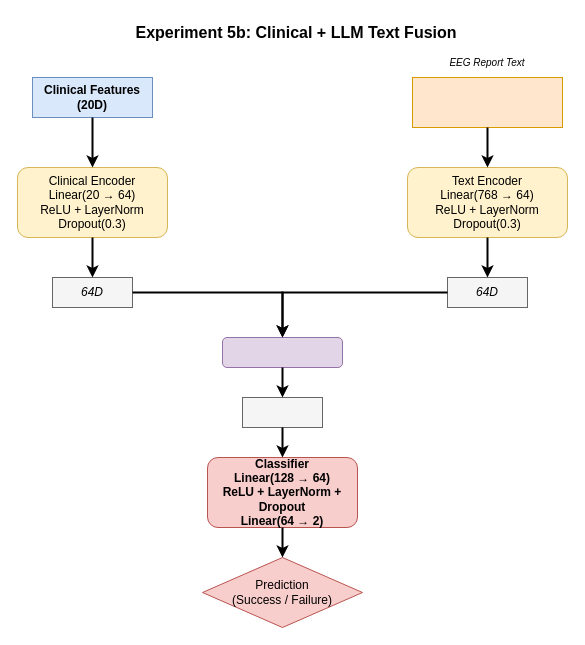
This 585x645 diagram has some shape labels left out. Here are the shapes that lost their labels. From the top down, the centre of each, then its label:
At point 487,102: "LLM Text Embedding (768D ClinicalBERT or PubMedBERT)".
At point 282,352: "Concatenate".
At point 282,412: "128D".
